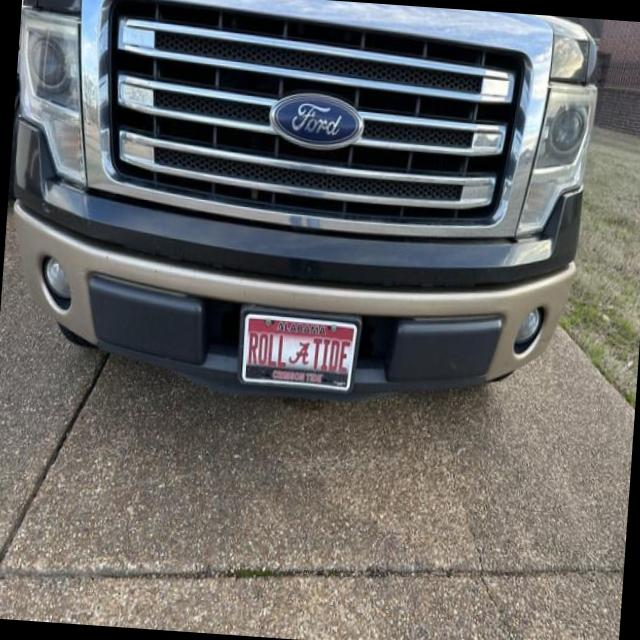LicensePlate: (241, 313, 357, 391)
